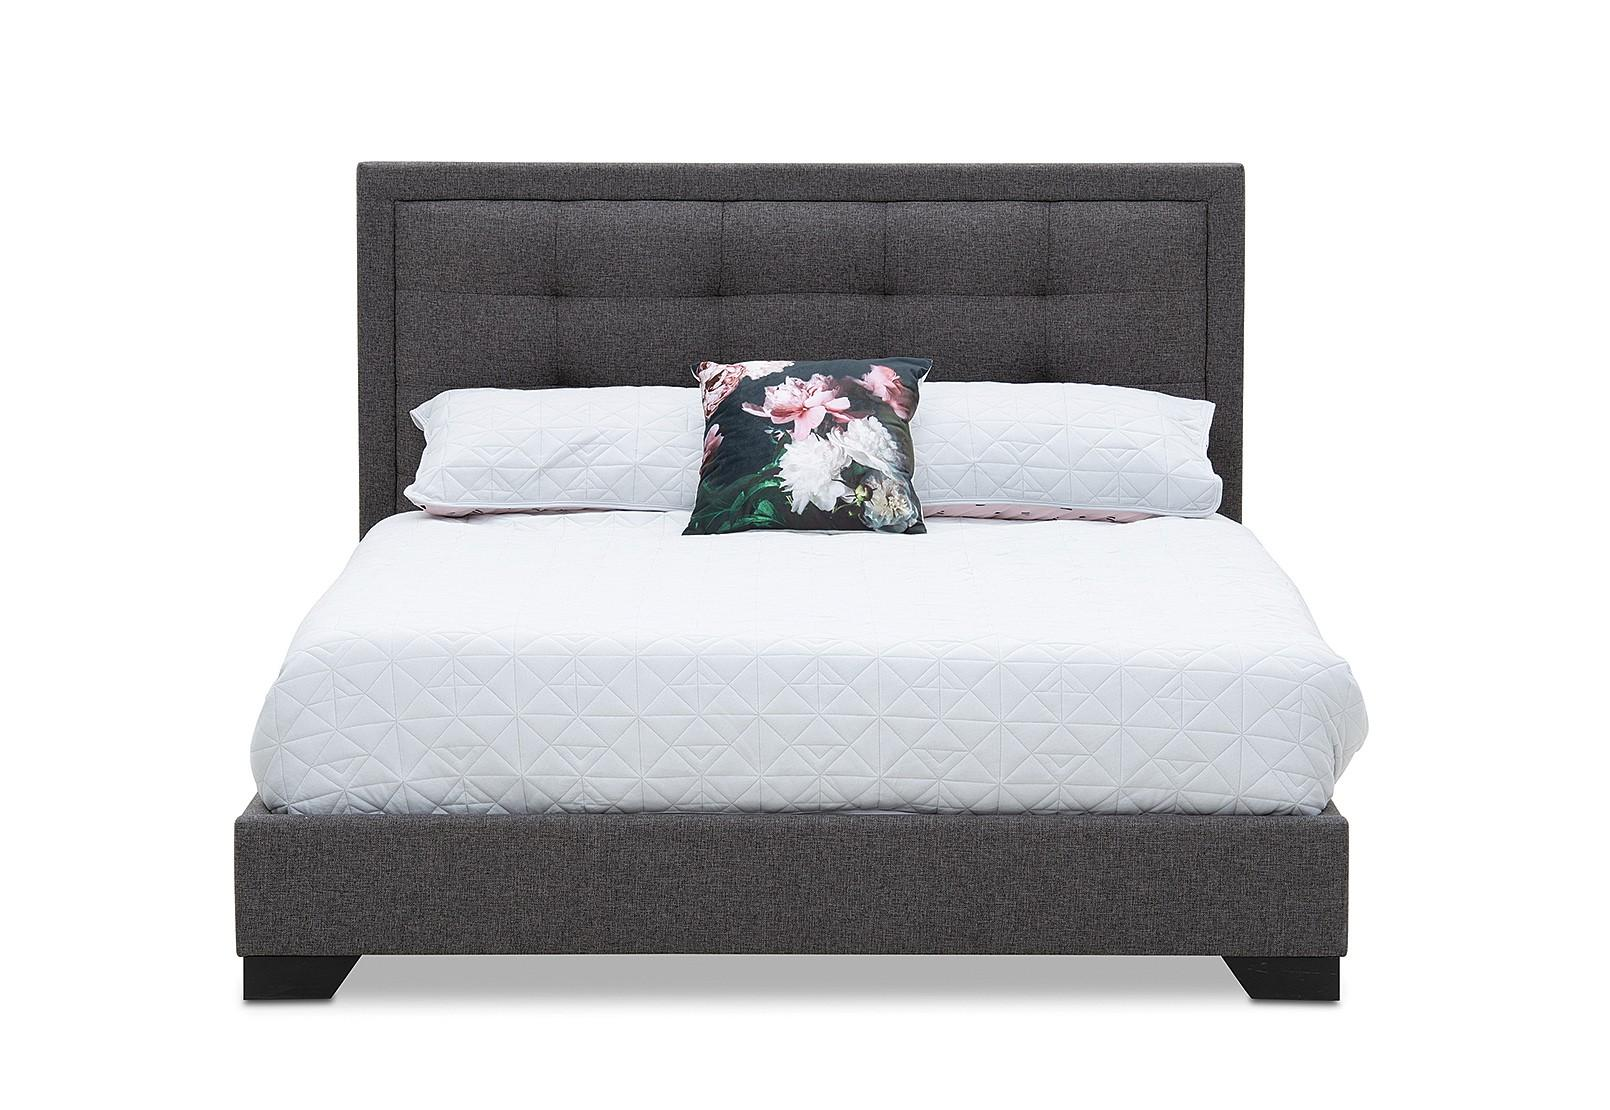bed: (321, 122, 1337, 923)
